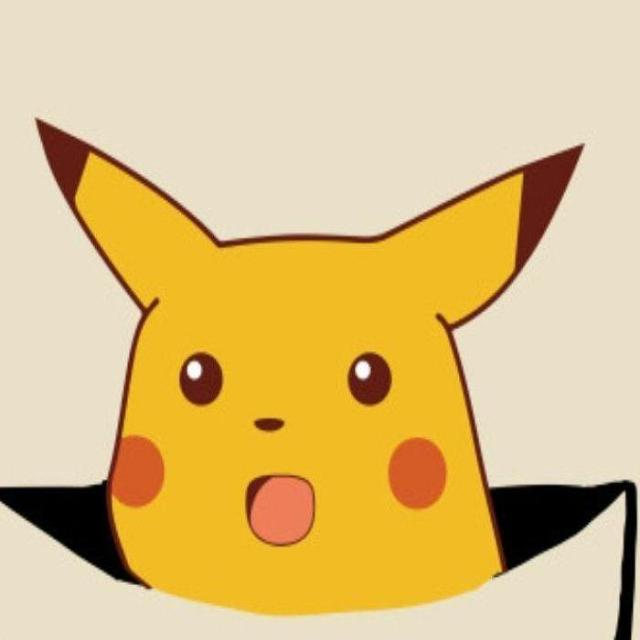pikachu: (26, 117, 596, 622)
